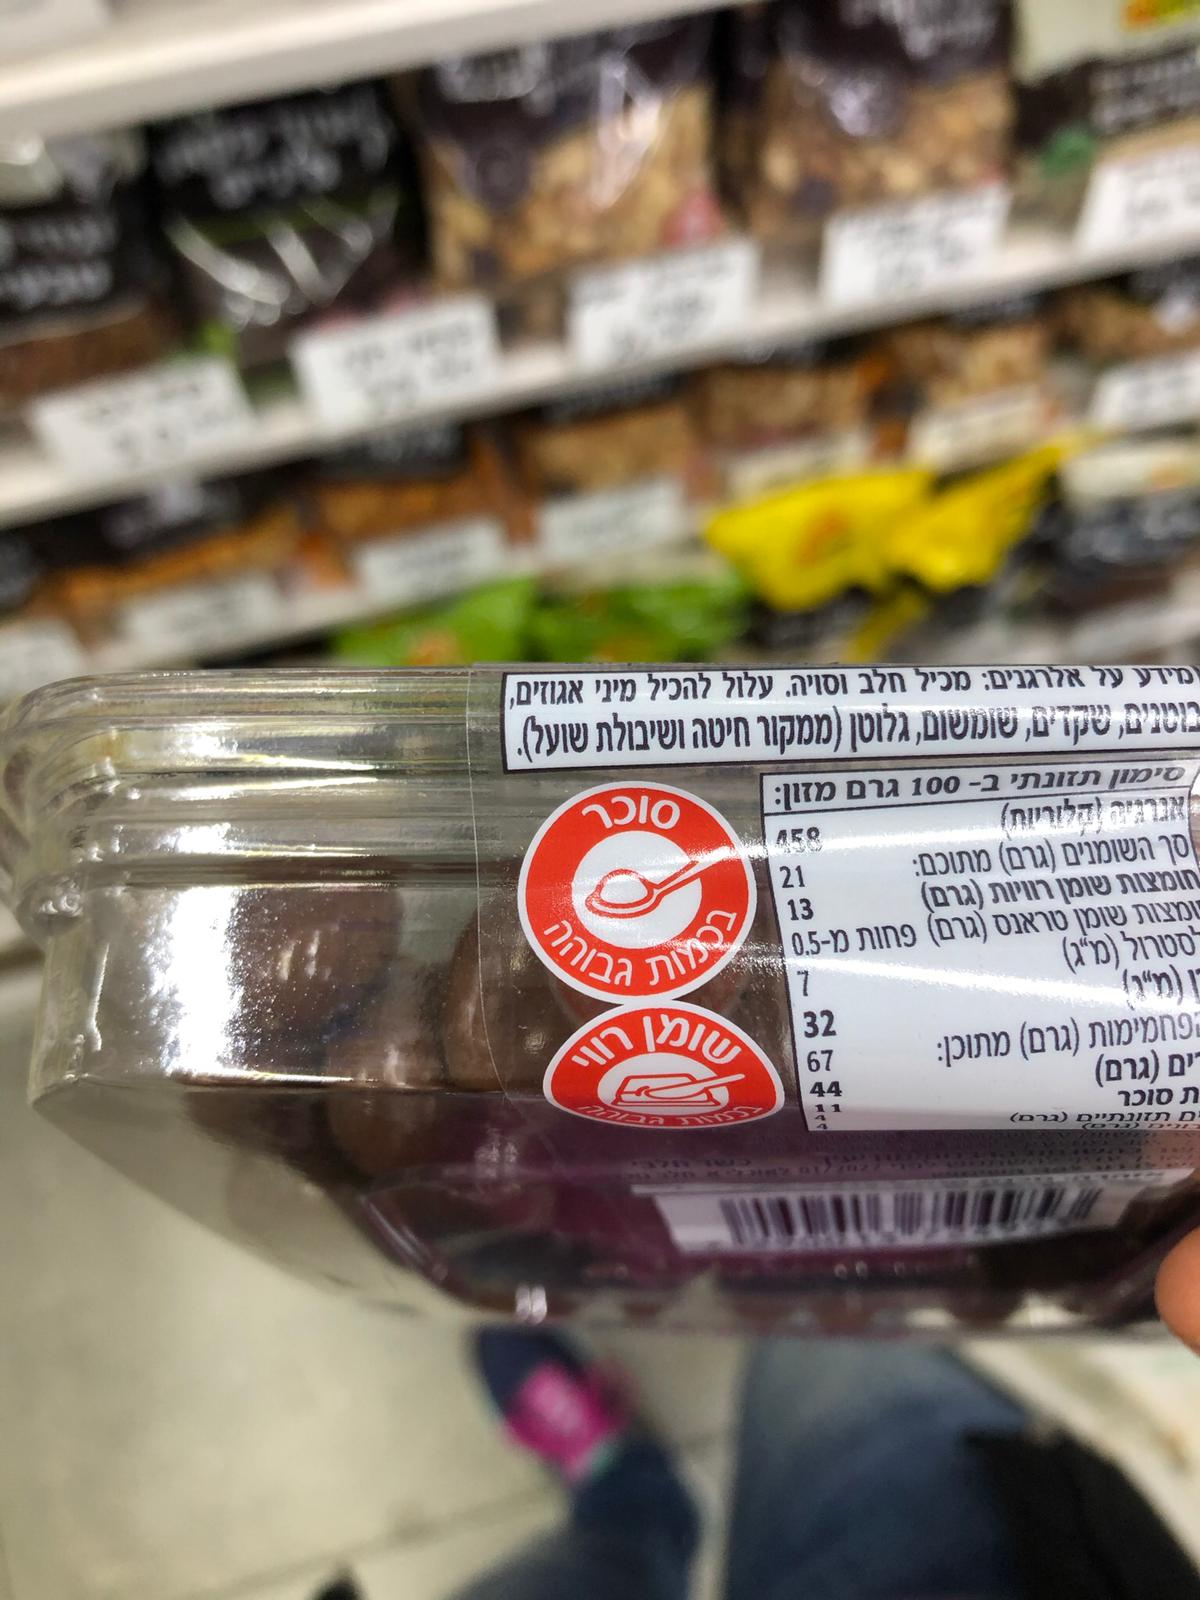fat: (545, 1005, 787, 1136)
sugar: (516, 781, 758, 1008)
